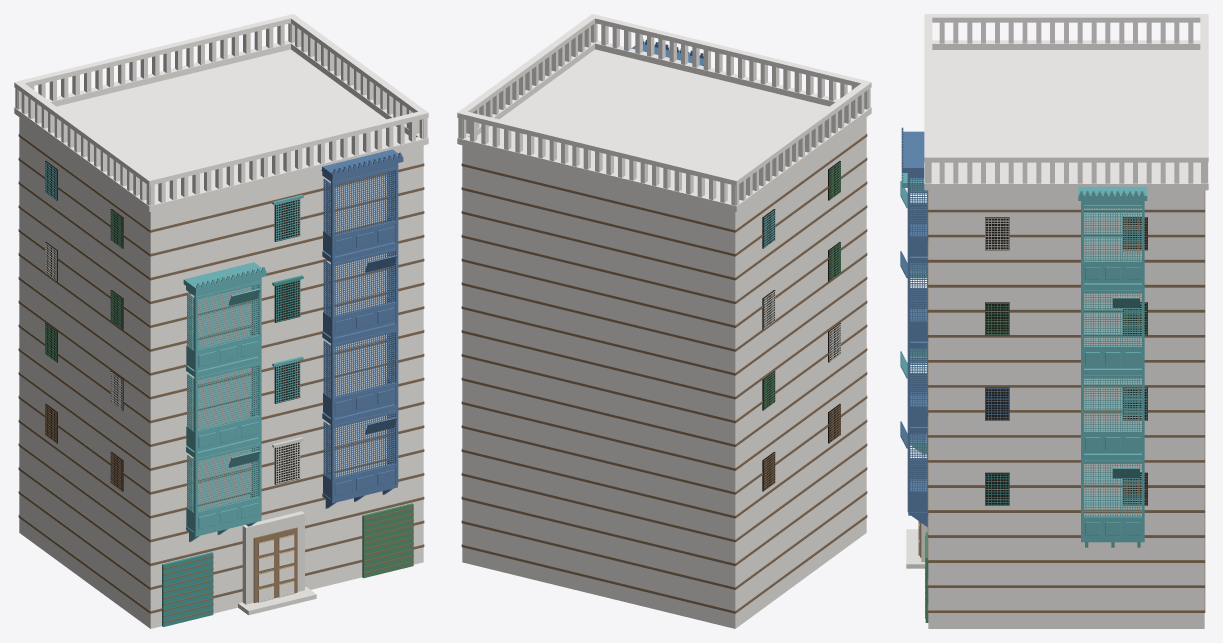
Rendered from SM_HijaziHouse_03.fbx.
3 renders of one model, left to right at view 1: azimuth 30°, elevation 25°; view 2: azimuth 150°, elevation 25°; view 3: azimuth 270°, elevation 25°, orthographic. The views are drawn at different scales.
Visible parts, largest first — view 1: SM_HijaziHouse_03; view 2: SM_HijaziHouse_03; view 3: SM_HijaziHouse_03.
Boxes of the visible parts, x1=… form: SM_HijaziHouse_03: x1=14, y1=14, x2=428, y2=628; SM_HijaziHouse_03: x1=457, y1=14, x2=871, y2=628; SM_HijaziHouse_03: x1=900, y1=14, x2=1208, y2=628.
Bounding box in the file's own units: 1316 × 1890 × 1116.
